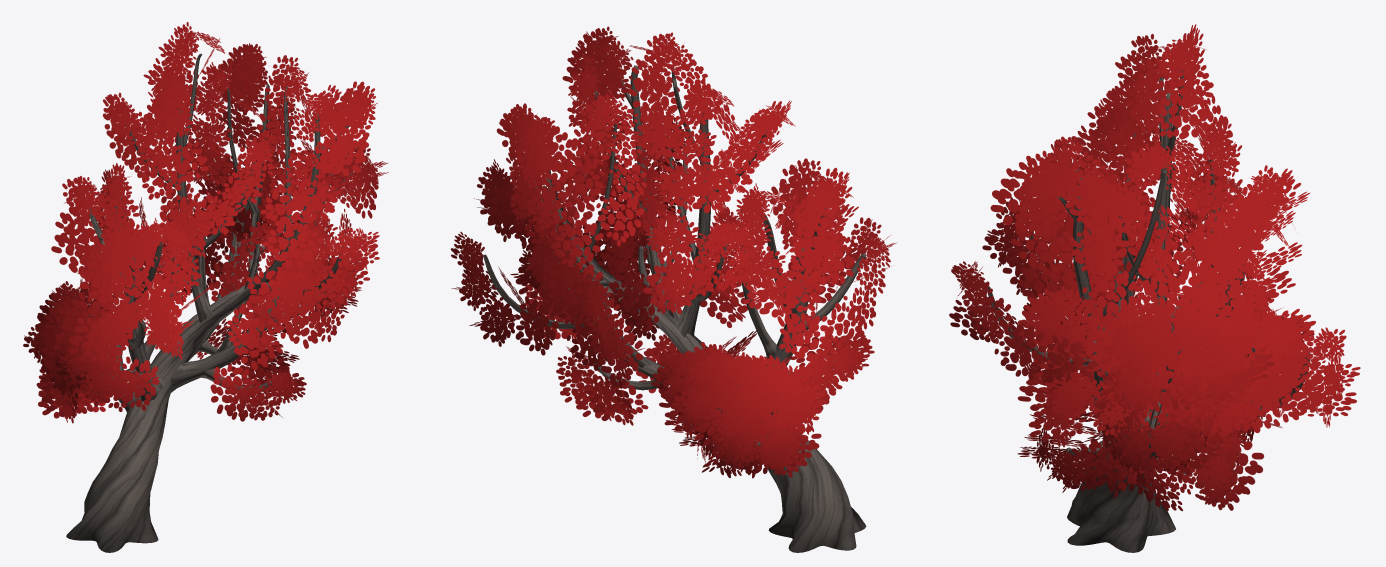
Rendered from quaternius-stylized-nature-twisted-tree-3.glb.
3 renders of one model, left to right at view 1: azimuth 30°, elevation 25°; view 2: azimuth 150°, elevation 25°; view 3: azimuth 270°, elevation 25°, orthographic. The views are drawn at different scales.
Parts seen in each view (by area): view 1: TwistedTree_1; view 2: TwistedTree_1; view 3: TwistedTree_1.
Boxes of the visible parts, box(x1,y1,x2,y2) form: TwistedTree_1: box(23, 22, 388, 552); TwistedTree_1: box(451, 26, 896, 552); TwistedTree_1: box(949, 24, 1360, 552).
Bounding box in the file's own units: 13.52 × 16.73 × 11.55.
Materials: 2 (2 with a texture image).
